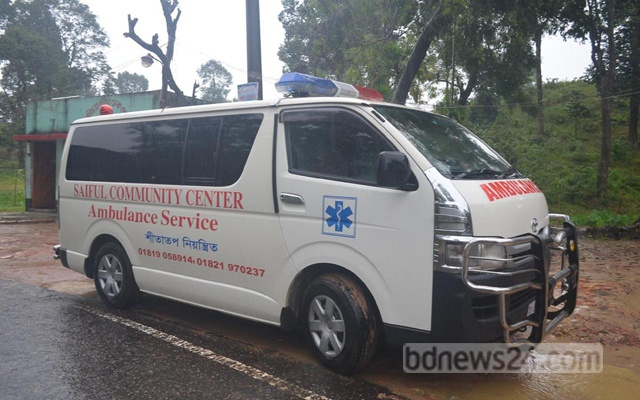ambulance: (51, 71, 580, 374)
